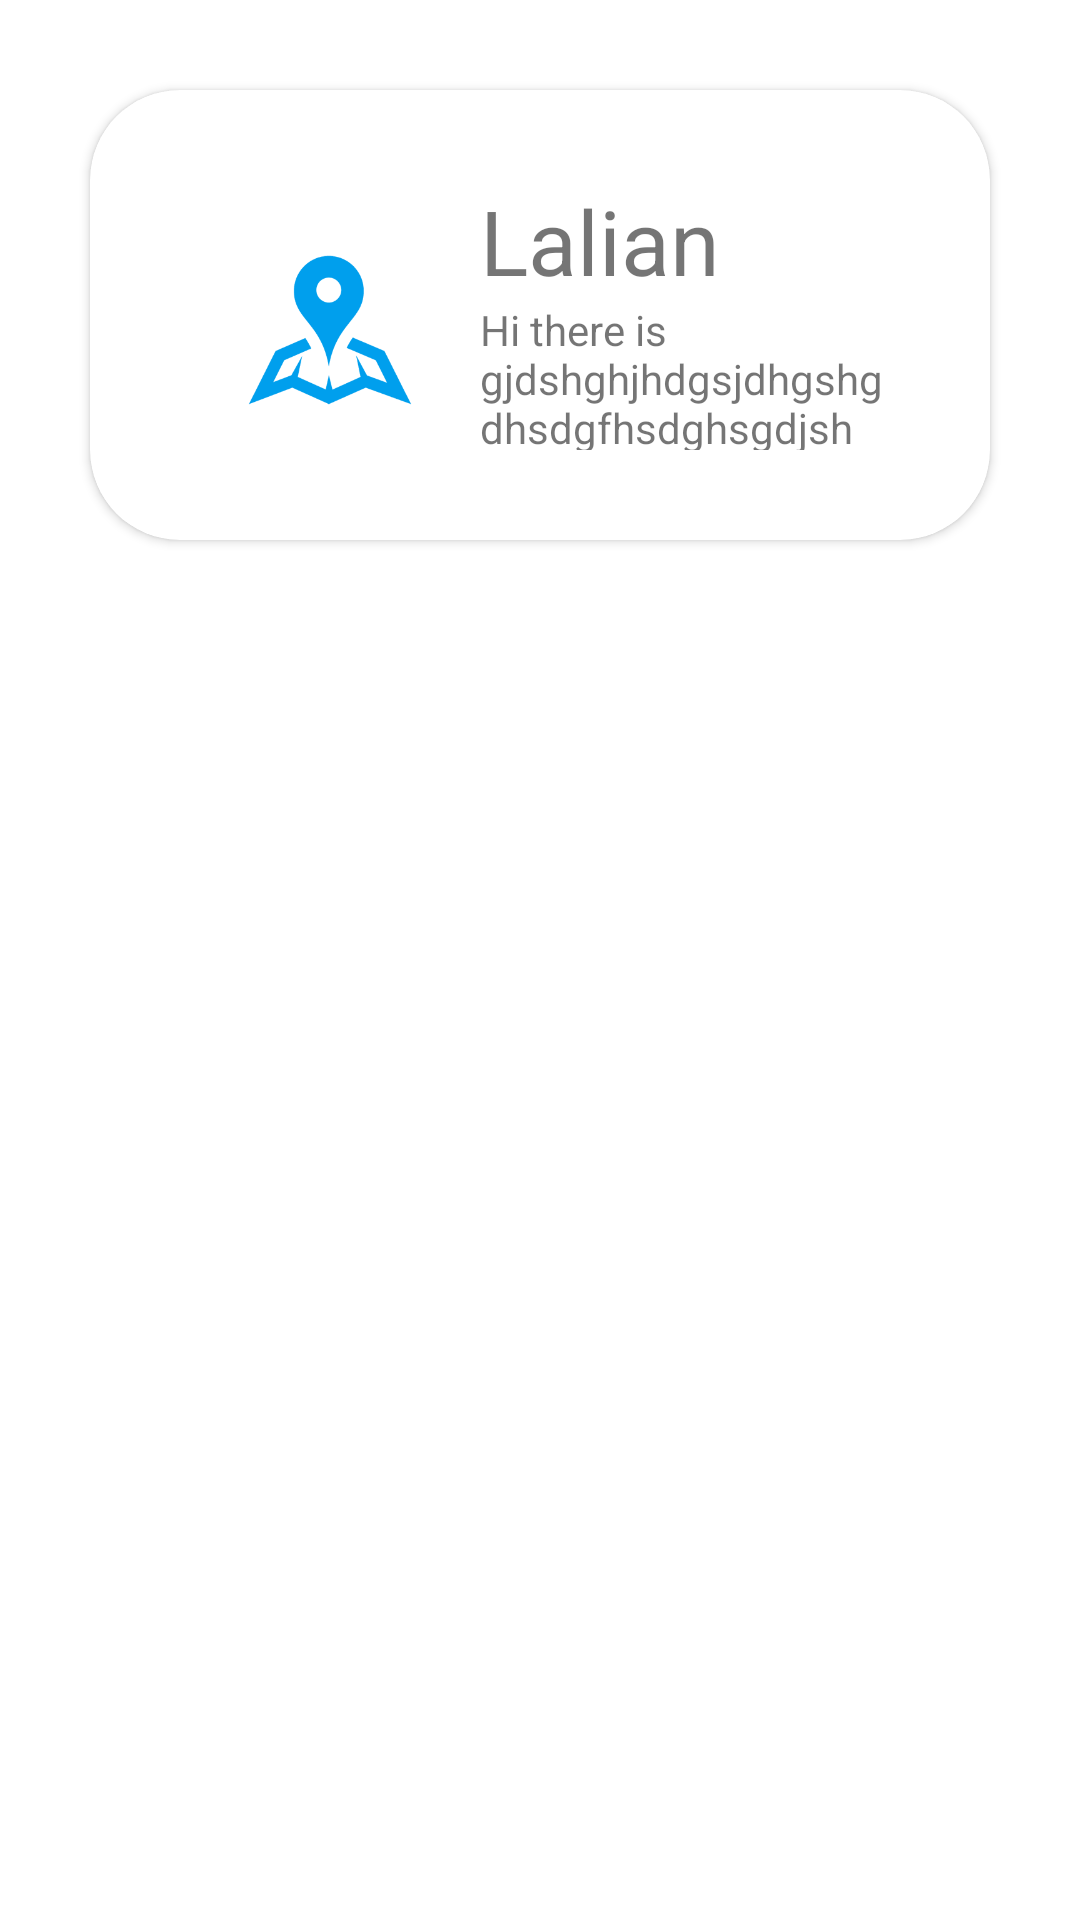

Where icons sit on this 1080*1920 app screen, as bbox=[x1, y1, x2, y2]:
pin: bbox=[249, 255, 411, 405]
